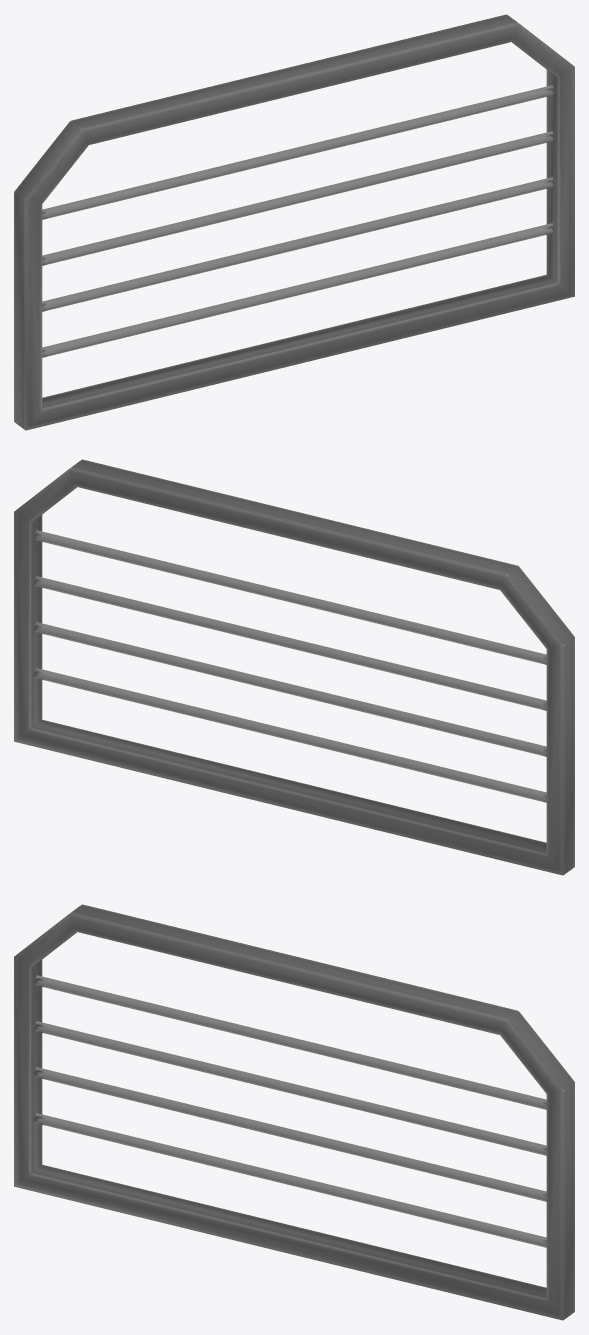
Rendered from Part - Detail 03-D8H1c8JL.glb.
3 views of the same model, one above another, from view 1: azimuth 30°, elevation 25°; view 2: azimuth 150°, elevation 25°; view 3: azimuth 330°, elevation 25° (orthographic).
Parts seen in each view (by area): view 1: Detail_03; view 2: Detail_03; view 3: Detail_03.
Part boxes in pixels (x1,y1,x2,y2): Detail_03: (14,14,574,430); Detail_03: (14,459,574,875); Detail_03: (14,904,574,1320).
Size of the model in its own units: 1.5 by 0.75 by 0.056.
1 material, 1 textured.
